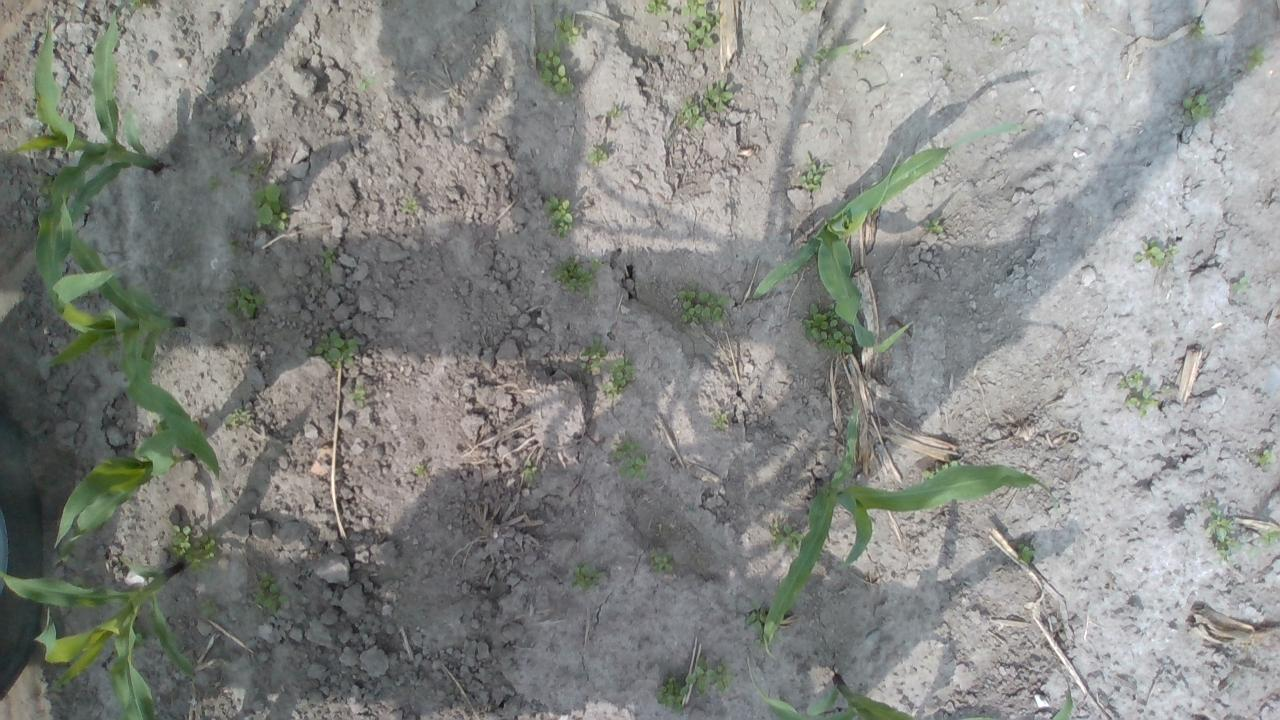Maize: (760, 403, 1062, 648), (750, 125, 1020, 357), (4, 0, 164, 308), (44, 221, 222, 480), (0, 558, 195, 720), (746, 654, 1076, 720), (54, 428, 194, 566)
Weeds: (801, 302, 856, 354), (170, 524, 217, 574), (537, 41, 577, 96), (550, 255, 601, 298), (686, 655, 736, 697), (251, 180, 289, 233), (681, 0, 720, 50), (311, 333, 360, 370), (676, 288, 728, 322), (224, 284, 267, 322), (254, 570, 290, 614), (611, 442, 648, 482), (544, 192, 574, 240), (656, 673, 688, 715), (798, 156, 832, 194), (1134, 240, 1178, 268), (1210, 518, 1236, 562), (570, 564, 608, 592), (770, 522, 803, 553), (702, 79, 732, 112), (580, 334, 608, 369), (1126, 388, 1158, 418), (552, 14, 582, 46), (676, 99, 706, 130), (607, 357, 636, 387), (94, 333, 126, 360), (744, 598, 767, 632), (1183, 93, 1210, 120), (31, 174, 54, 200), (815, 44, 848, 62), (318, 246, 338, 274), (586, 144, 608, 166), (652, 551, 673, 574), (789, 55, 808, 78), (1119, 371, 1143, 389), (132, 626, 152, 647), (1016, 542, 1035, 564), (1246, 47, 1264, 70), (224, 409, 248, 426), (198, 598, 218, 618), (646, 0, 668, 17), (602, 384, 626, 399), (711, 413, 729, 433), (1206, 498, 1222, 520), (926, 216, 944, 234), (1189, 20, 1205, 40), (935, 461, 959, 474), (1261, 530, 1280, 546), (1232, 276, 1248, 294), (250, 162, 268, 178), (1256, 448, 1271, 466), (208, 175, 223, 193), (401, 199, 418, 214), (524, 462, 537, 481), (350, 384, 364, 401), (150, 420, 166, 434), (224, 238, 240, 252), (798, 0, 816, 12), (128, 0, 152, 9), (359, 77, 374, 91), (921, 469, 934, 483), (608, 106, 622, 118), (414, 463, 426, 475), (230, 167, 242, 178), (759, 634, 767, 648), (856, 52, 865, 61)
